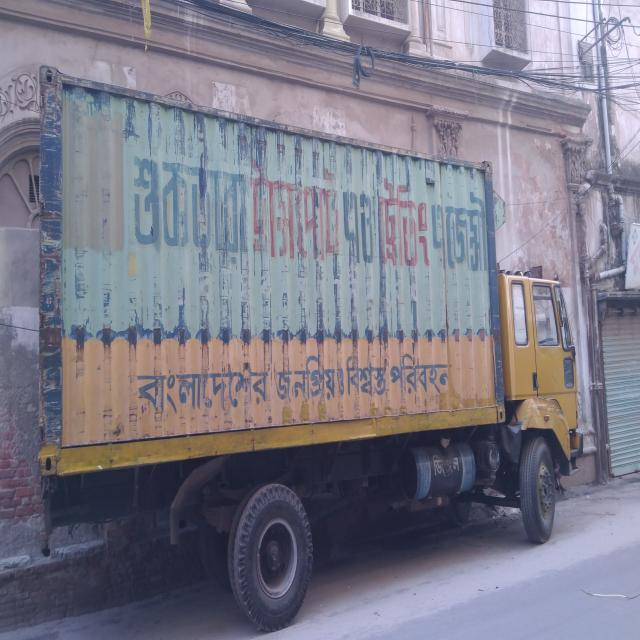truck: (34, 58, 588, 624)
